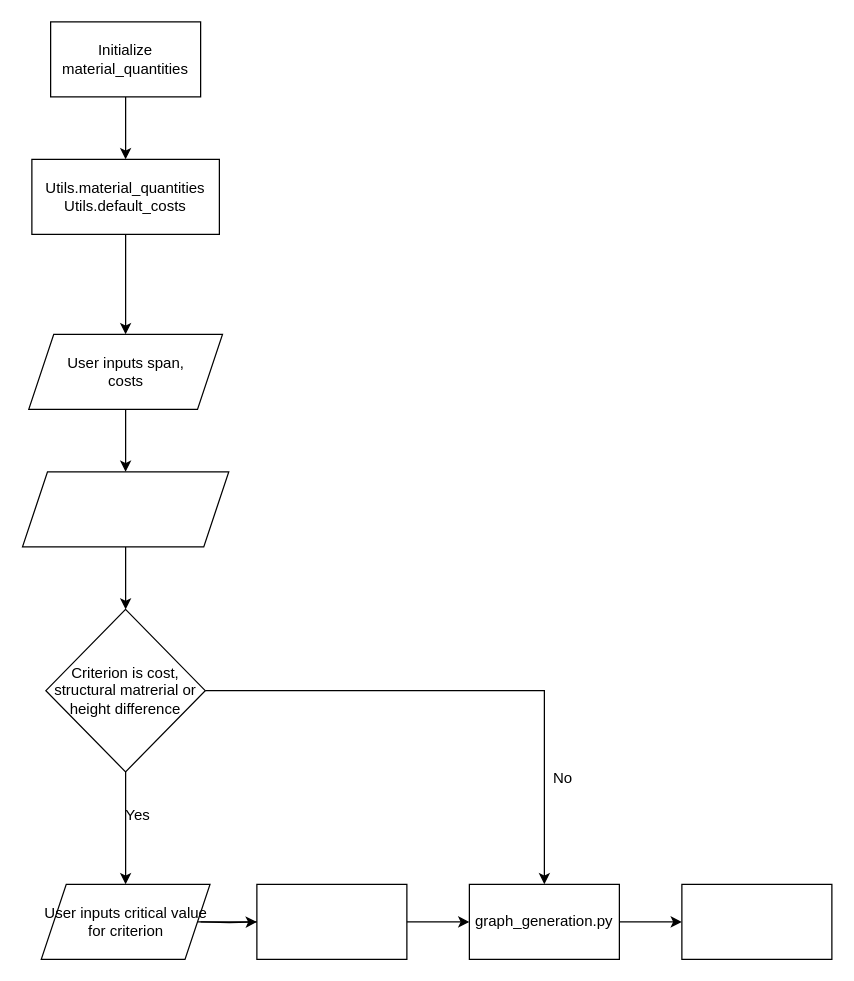
Some shapes in this 854 by 981 pixel diagram are drawn without their labels. Here are the shapes that lost their labels. From the top down, the centre of each, then its label:
[125,509]: User selects evaluation criteria
[331,921]: Filter on cost/structural material/height difference?
[756,921]: Display graph
